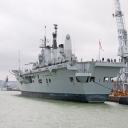Portanaves: (10, 25, 128, 106)
